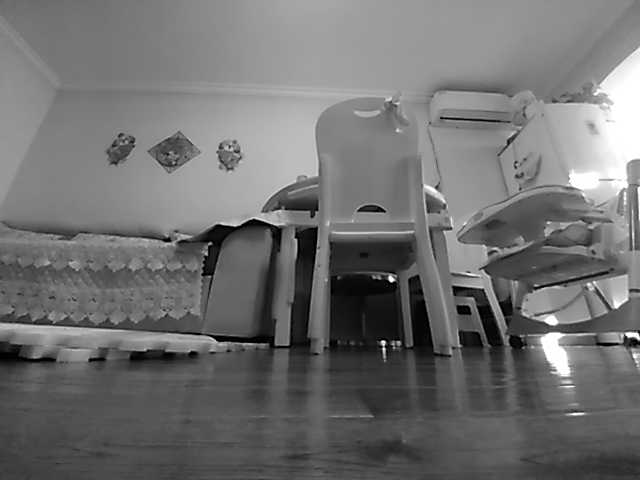carpet: (1, 322, 271, 365)
